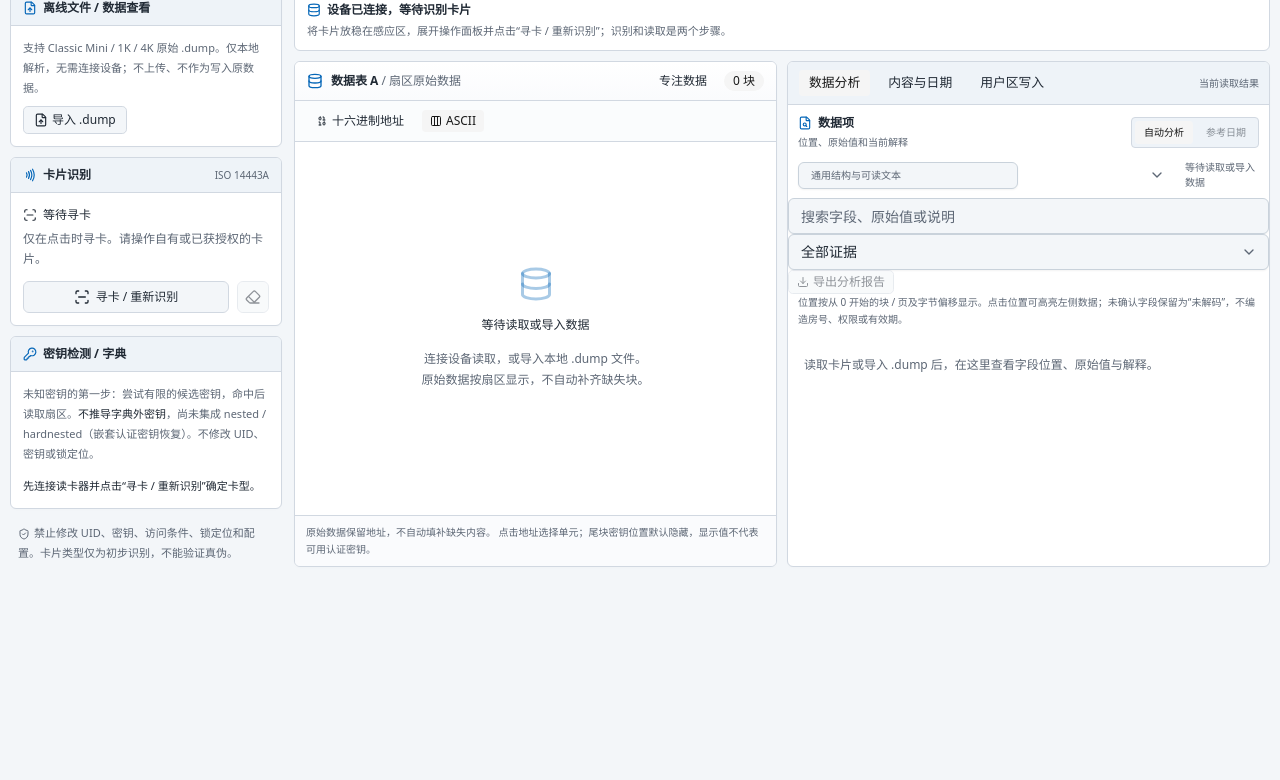
Test case: identifies unsupported families without offering a universal unlock action
What coordinates should you click on to do the following:
click the button "寻卡 / 重新识别"
I would click on:
 (126, 297)
Its box is [23,281,229,313].
(page scrolled)
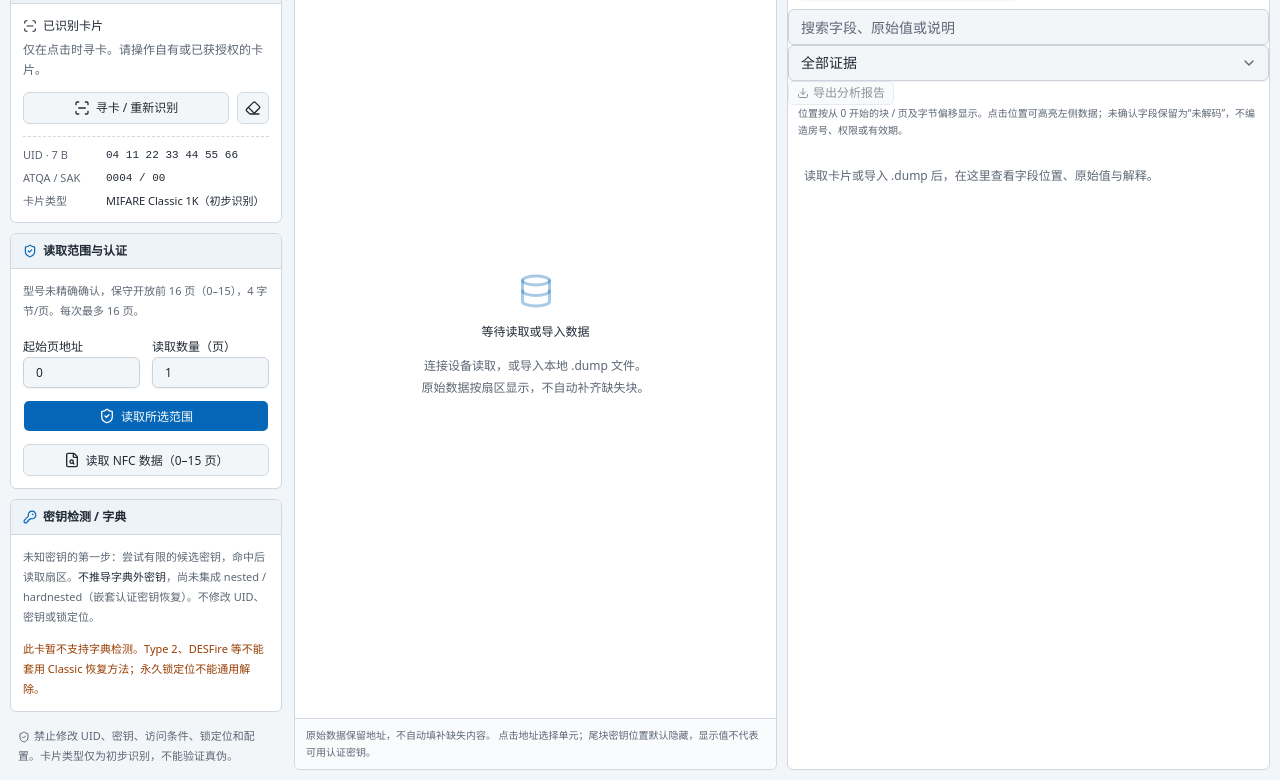
Expected: the text "此卡暂不支持字典检测。Type 2、DESFire 等不能套用 Classic 恢复方法；永久锁定位不能通用解除。" is shown, [23,639,269,699]
